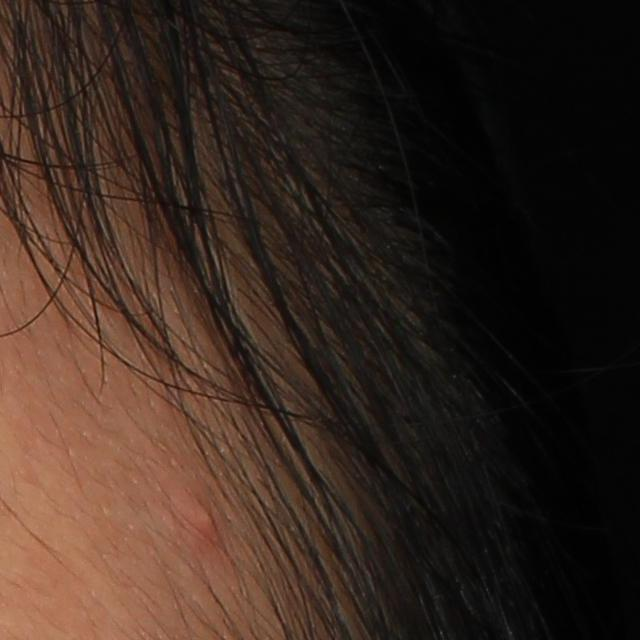papule: (189, 497, 225, 543)
